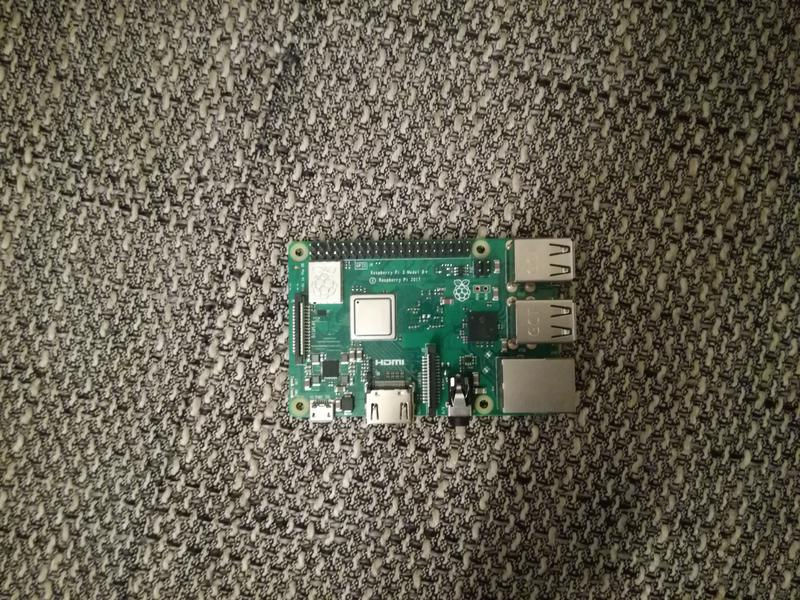Raspberry_Pi_3: (280, 232, 590, 435)
